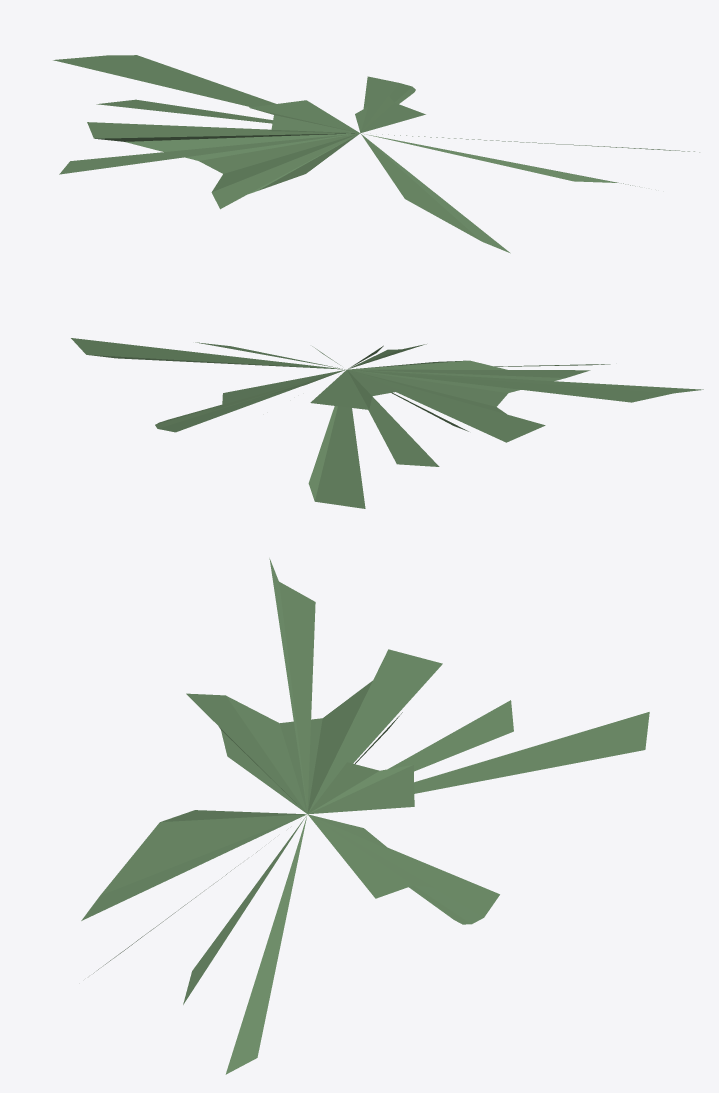
Rendered from c_1669_17814_forest.glb.
The picture shows the model from 3 angles, top to bottom: view 1: azimuth 30°, elevation 25°; view 2: azimuth 150°, elevation 25°; view 3: azimuth 270°, elevation 25°; orthographic projection. The views are drawn at different scales.
Visible parts, largest first — view 1: geometry_0; view 2: geometry_0; view 3: geometry_0.
Part boxes in pixels (x1,y1,x2,y2): geometry_0: [53, 55, 699, 253]; geometry_0: [71, 338, 703, 508]; geometry_0: [81, 558, 649, 1074].
Size of the model in its own units: 335 by 64.95 by 252.
